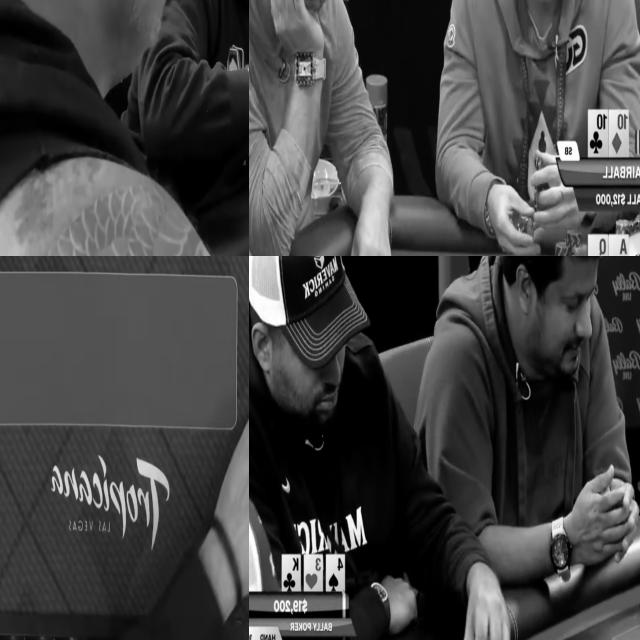10C: (589, 110, 607, 156)
10D: (610, 110, 628, 156)
3H: (304, 554, 323, 592)
4S: (325, 554, 345, 590)
AH: (609, 235, 628, 256)
KC: (282, 554, 301, 592)
QD: (589, 235, 607, 256)
